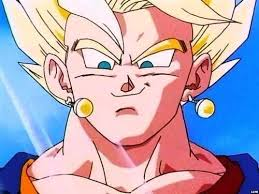Vegito: (18, 1, 227, 150)
